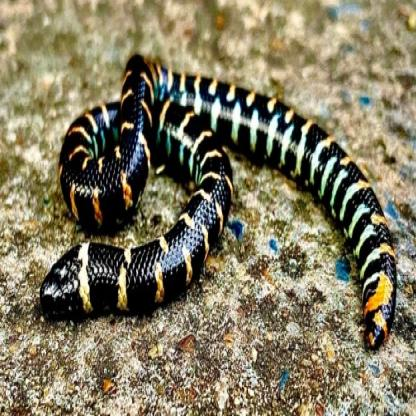snakes: (40, 37, 399, 349)
